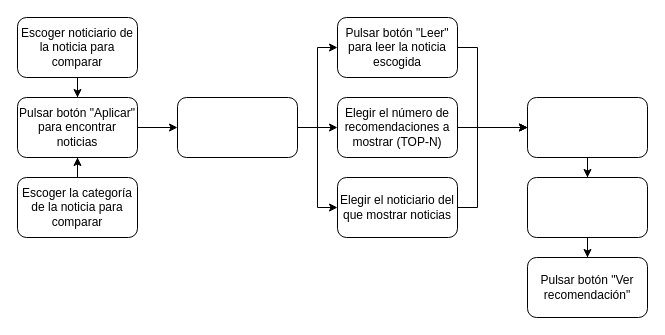
This 665x335 diagram has some shape labels left out. The box of each missing label's shape, as (x1, y1, x2, y2) in pixels:
Elegir la noticia para comparar: (176, 96, 298, 158)
Elegir recomendación para leer: (526, 176, 648, 238)
Pulsar botón "Buscar" para mostrar recomendaciones: (526, 96, 648, 158)
